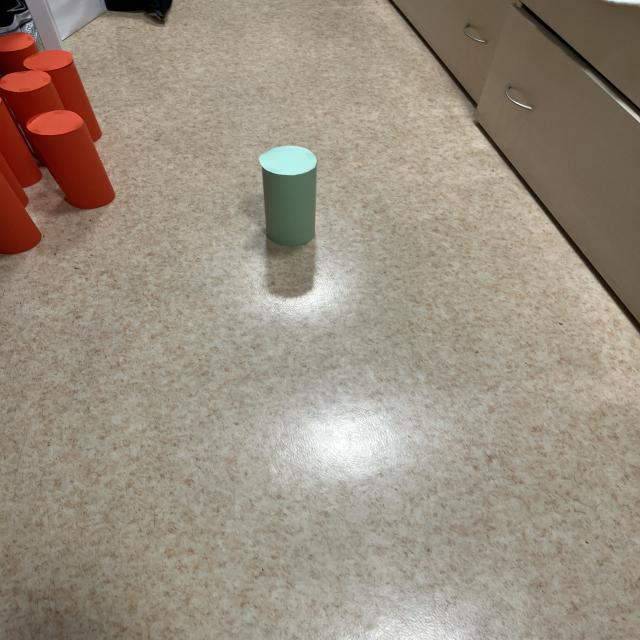meta: (259, 146, 316, 246)
